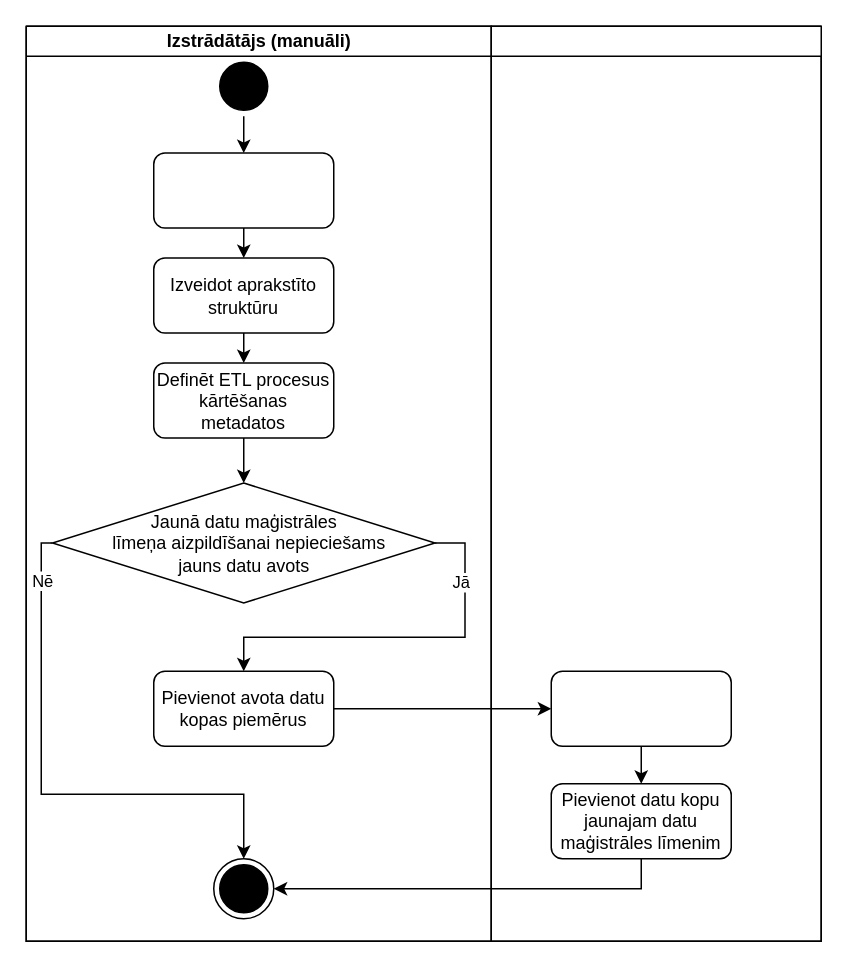
Some shapes in this 848 by 968 pixel diagram are drawn without their labels. Each missing label, with the box of its shape:
Aprakstīt jaunā datu maģistrāles līmeņa struktūru metadatos: (152, 152, 334, 228)
Iegūt datu kopas struktūru: (550, 670, 731, 746)
Sistēma (automātiski): (490, 25, 821, 941)
